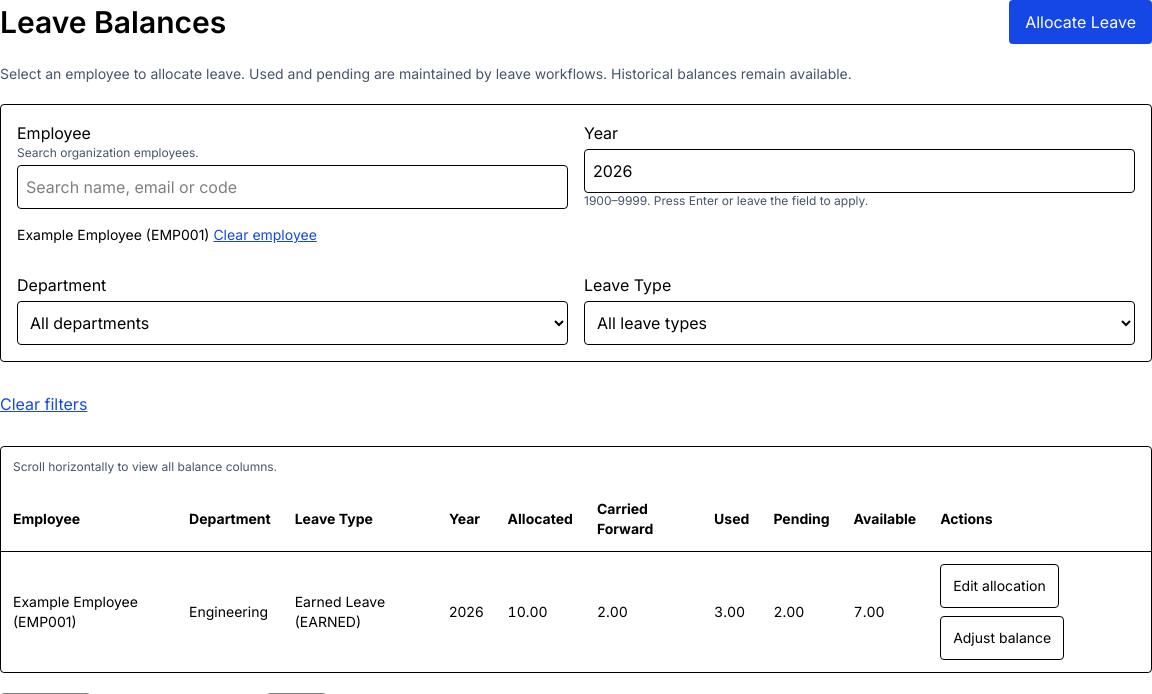
Test: Phase 13 balance administration › blocks allocation when all types already have balances
Click the button "Allocate Leave" at (1081, 22), box left=1009, top=0, right=1151, bottom=44
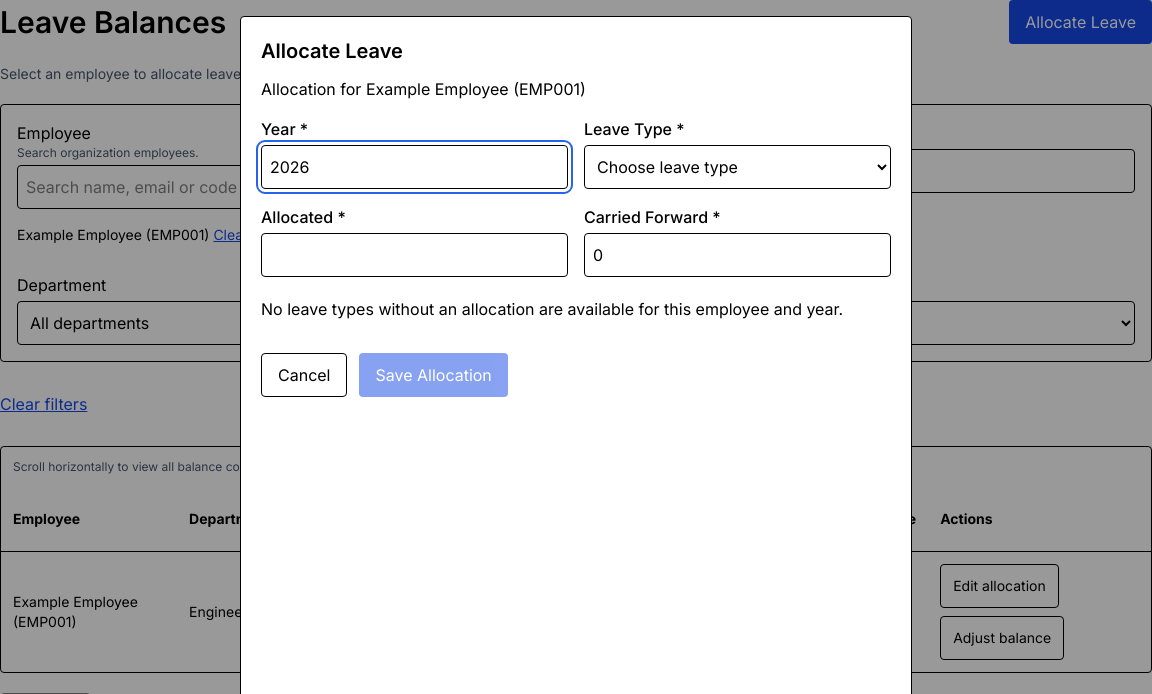
Expected: the text "No leave types without an allocation are available for this employee and year." is shown, left=261, top=297, right=891, bottom=321
Expected: the button "Save Allocation" is disabled, left=360, top=353, right=508, bottom=397
